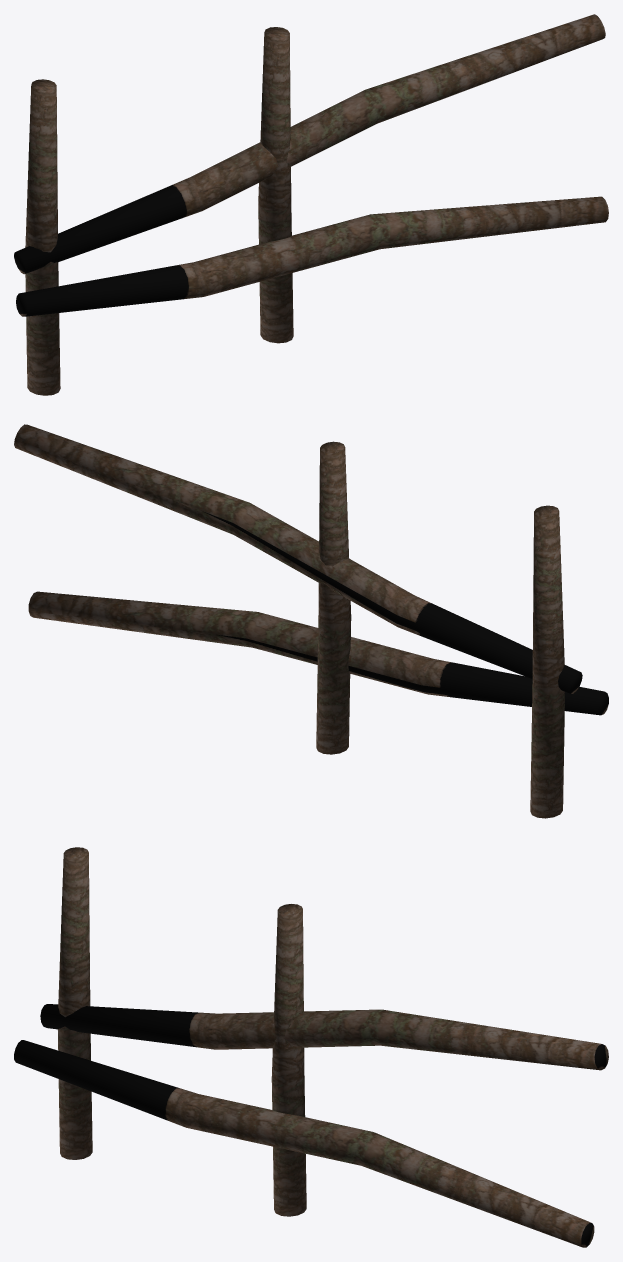
The model's file is fence 2.fbx.
3 views of the same model, one above another, from view 1: azimuth 30°, elevation 25°; view 2: azimuth 150°, elevation 25°; view 3: azimuth 330°, elevation 25° (orthographic).
Visible parts, largest first — view 1: fence 2; view 2: fence 2; view 3: fence 2.
Part boxes in pixels (x1,y1,x2,y2): fence 2: [14, 14, 608, 395]; fence 2: [14, 424, 608, 818]; fence 2: [14, 847, 608, 1247].
Size of the model in its own units: 2.77 by 1.39 by 0.302.
